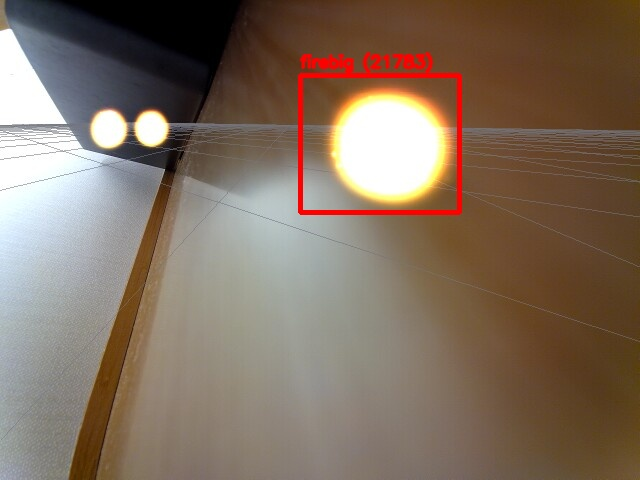firebig: (300, 75, 459, 212)
